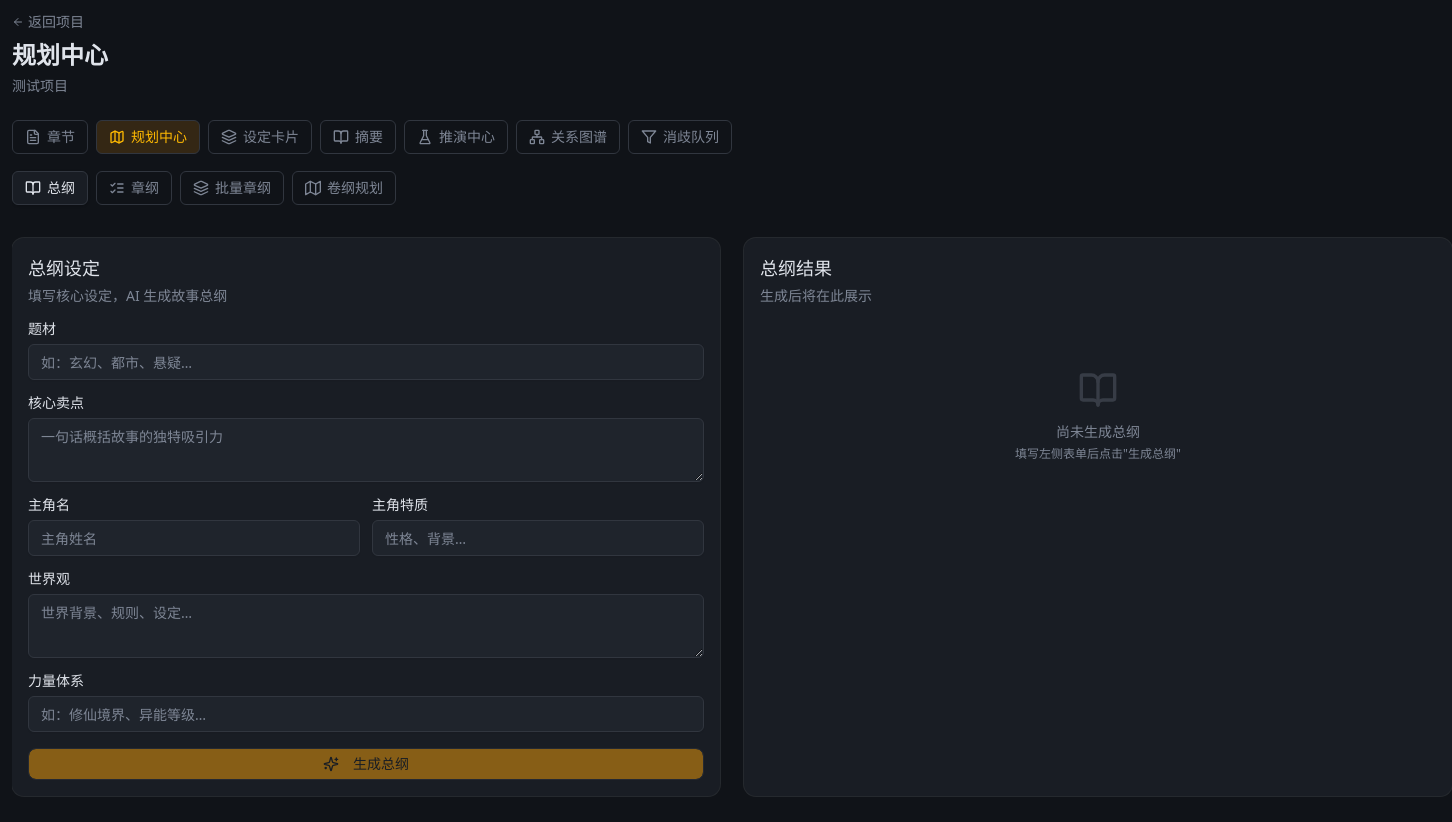
PlanningCenter › volume-plan: requires synopsis before generating
Expected: the text "测试项目" is shown, [12,76,68,95]
Click the tab "卷纲规划": (344, 188) [292,171,396,205]
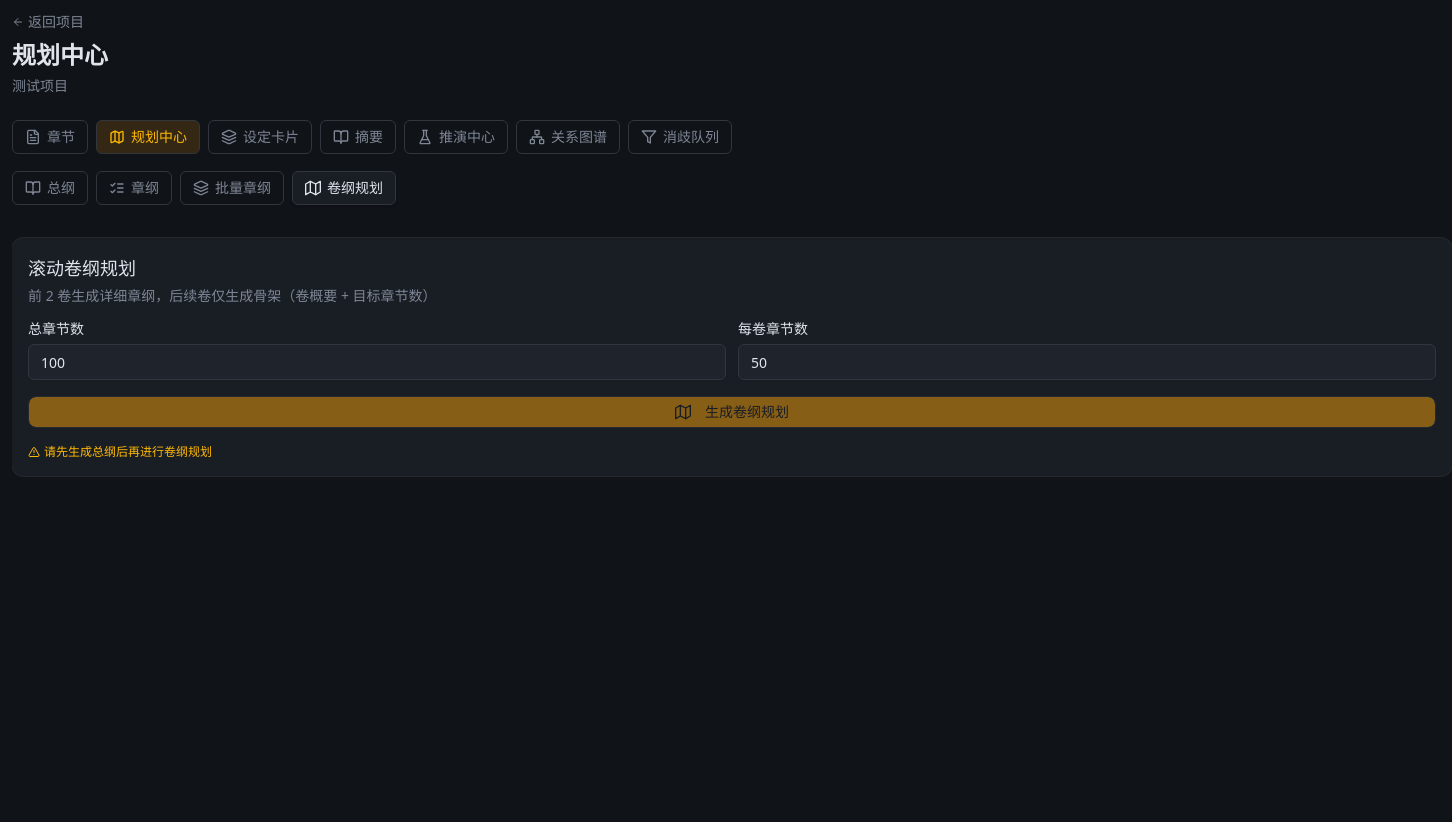
Expected: the text "请先生成总纲后再进行卷纲规划" is shown, [28,443,212,460]
